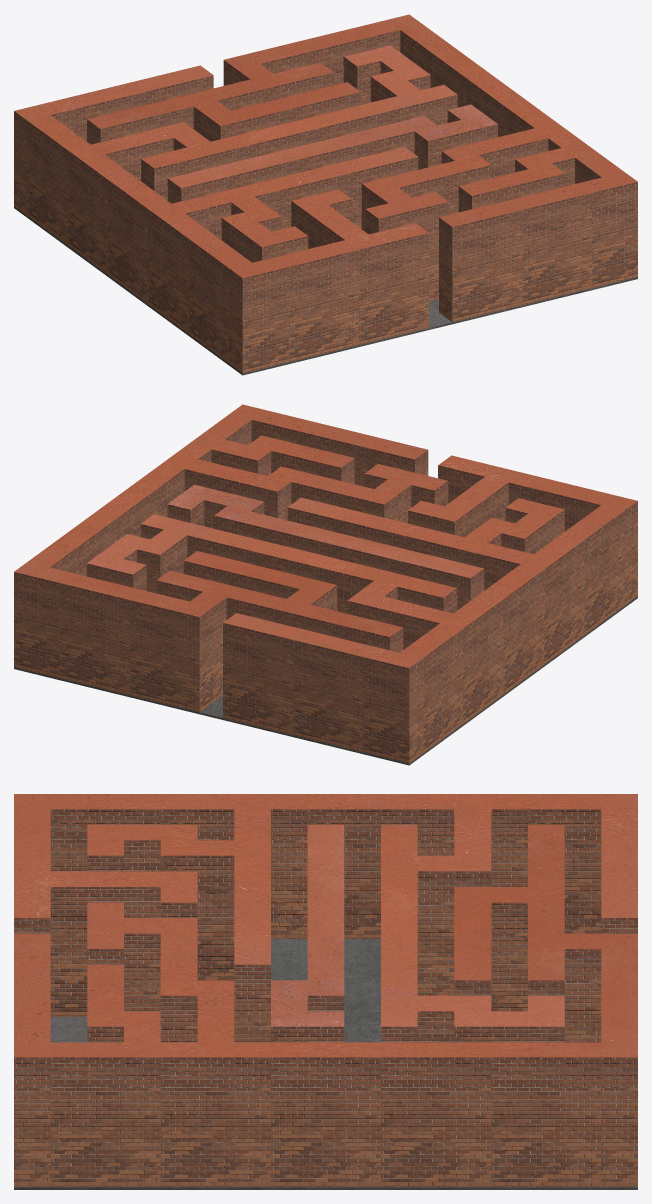
File: mazebrickwall.fbx
3 views of the same model, one above another, from view 1: azimuth 30°, elevation 25°; view 2: azimuth 150°, elevation 25°; view 3: azimuth 270°, elevation 25° (orthographic). The views are drawn at different scales.
Parts seen in each view (by area): view 1: Plane; view 2: Plane; view 3: Plane.
Part boxes in pixels (x1,y1,x2,y2): Plane: [14, 14, 637, 375]; Plane: [14, 404, 637, 765]; Plane: [14, 794, 637, 1189].
Bounding box in the file's own units: 3899 × 916 × 3906.
6 materials, 6 textured.
